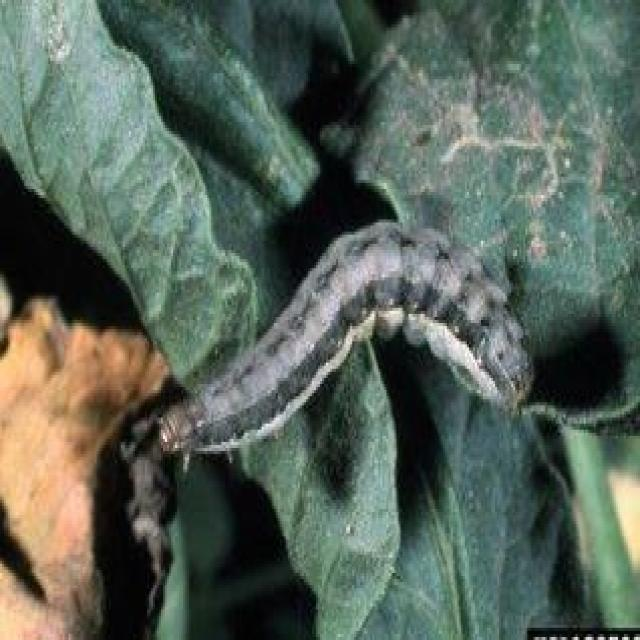army worm: (149, 205, 529, 467)
